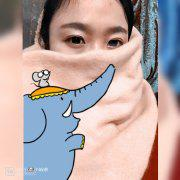OK: (52, 21, 133, 95)
